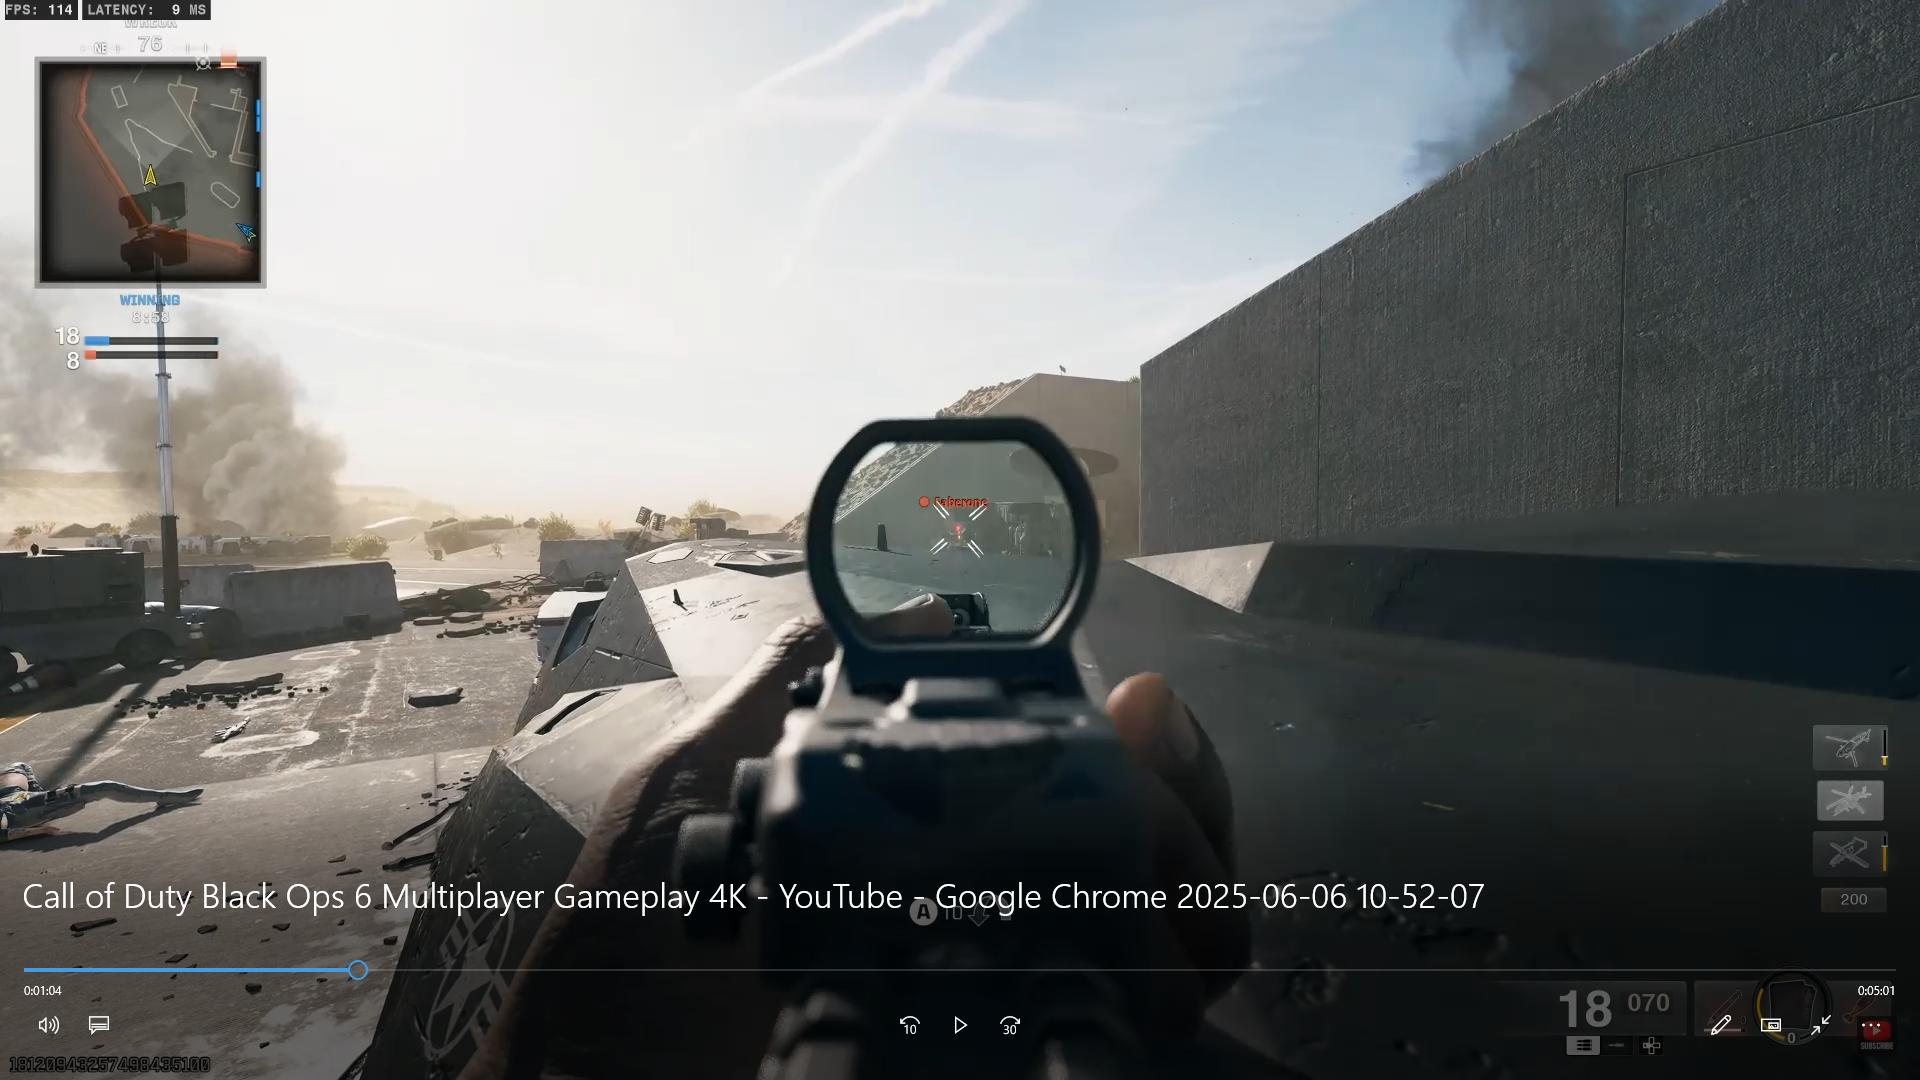Enemy: (919, 479, 998, 564)
